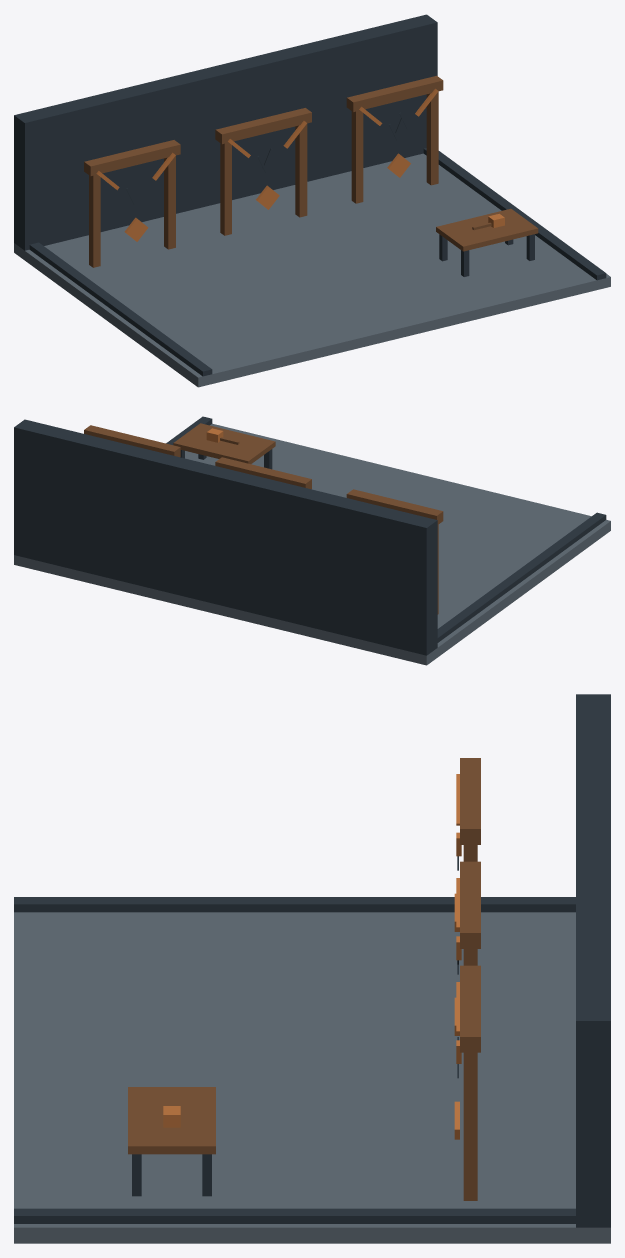
File: shoring_gallery.glb
The picture shows the model from 3 angles, top to bottom: view 1: azimuth 30°, elevation 25°; view 2: azimuth 150°, elevation 25°; view 3: azimuth 270°, elevation 25°; orthographic projection. The views are drawn at different scales.
Parts seen in each view (by area): view 1: shoring_gallery; view 2: shoring_gallery; view 3: shoring_gallery.
Boxes of the visible parts, x1,y1,x2,y2 form: shoring_gallery: (14, 14, 610, 387); shoring_gallery: (14, 416, 610, 665); shoring_gallery: (14, 694, 610, 1243).
Bounding box in the file's own units: 44 × 14 × 34.
